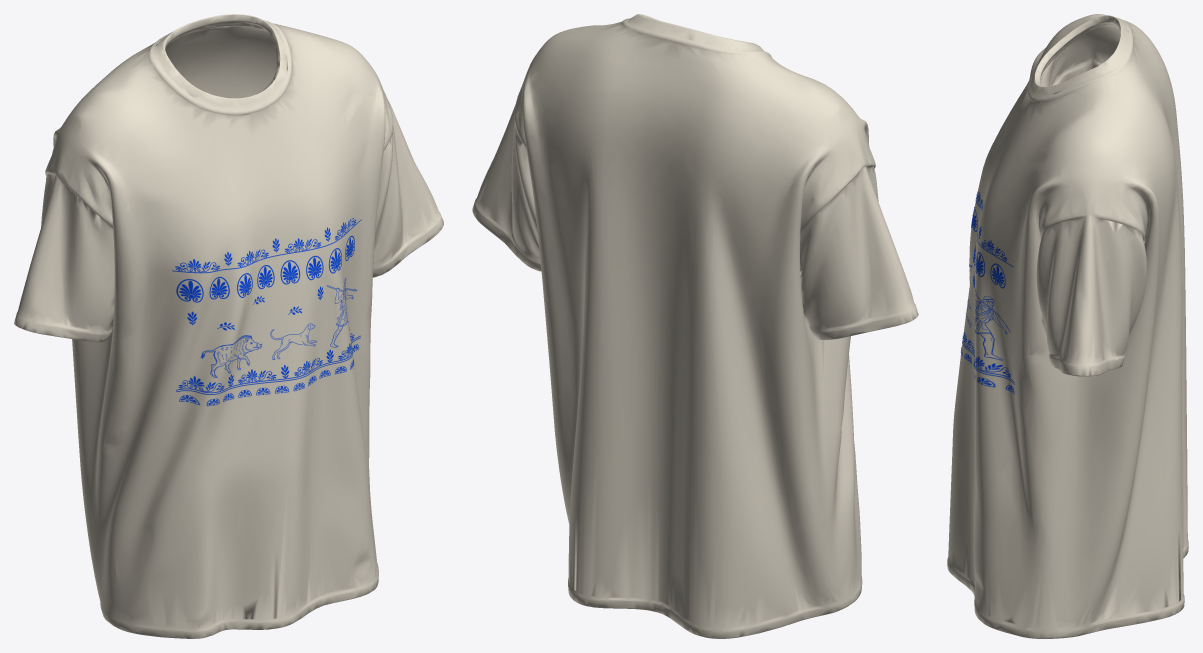
File: 16-chase-frieze-blue.glb
3 renders of one model, left to right at view 1: azimuth 30°, elevation 25°; view 2: azimuth 150°, elevation 25°; view 3: azimuth 270°, elevation 25°, orthographic. The views are drawn at different scales.
Parts seen in each view (by area): view 1: node_0007, Chase Frieze Blue / conforming front print; view 2: node_0007; view 3: node_0007, Chase Frieze Blue / conforming front print.
Part boxes in pixels (x1,y1,x2,y2): node_0007: (14,14,443,638); Chase Frieze Blue / conforming front print: (172,218,361,406); node_0007: (472,14,918,638); node_0007: (947,14,1188,638); Chase Frieze Blue / conforming front print: (961,192,1014,394).
Bounding box in the file's own units: 0.3696 × 0.4564 × 0.1826.
2 materials, 1 textured.
